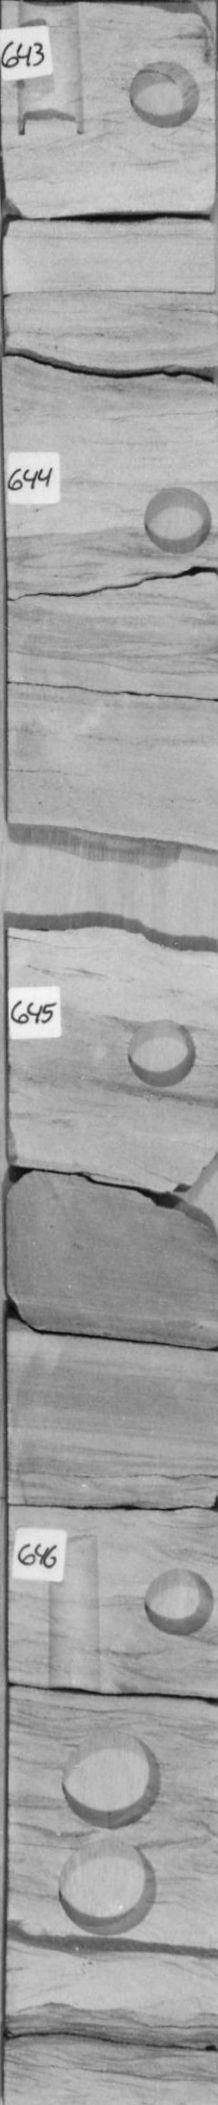hplug: (139, 477, 218, 561), (121, 1012, 203, 1093), (121, 52, 203, 132), (136, 1560, 218, 1636)
scal: (57, 1726, 164, 1834), (52, 1841, 160, 1936)
vplug: (38, 1534, 114, 1693), (12, 8, 96, 140)
